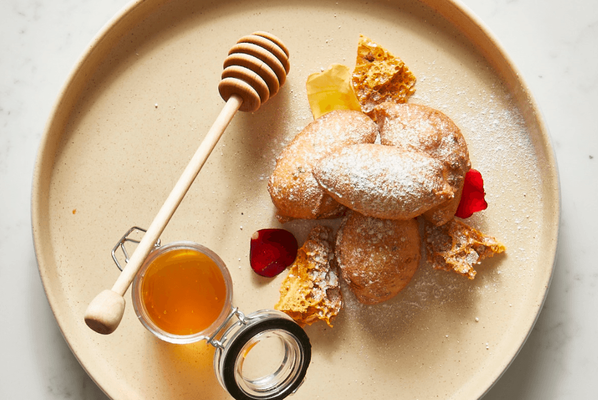salad: (84, 32, 291, 334)
